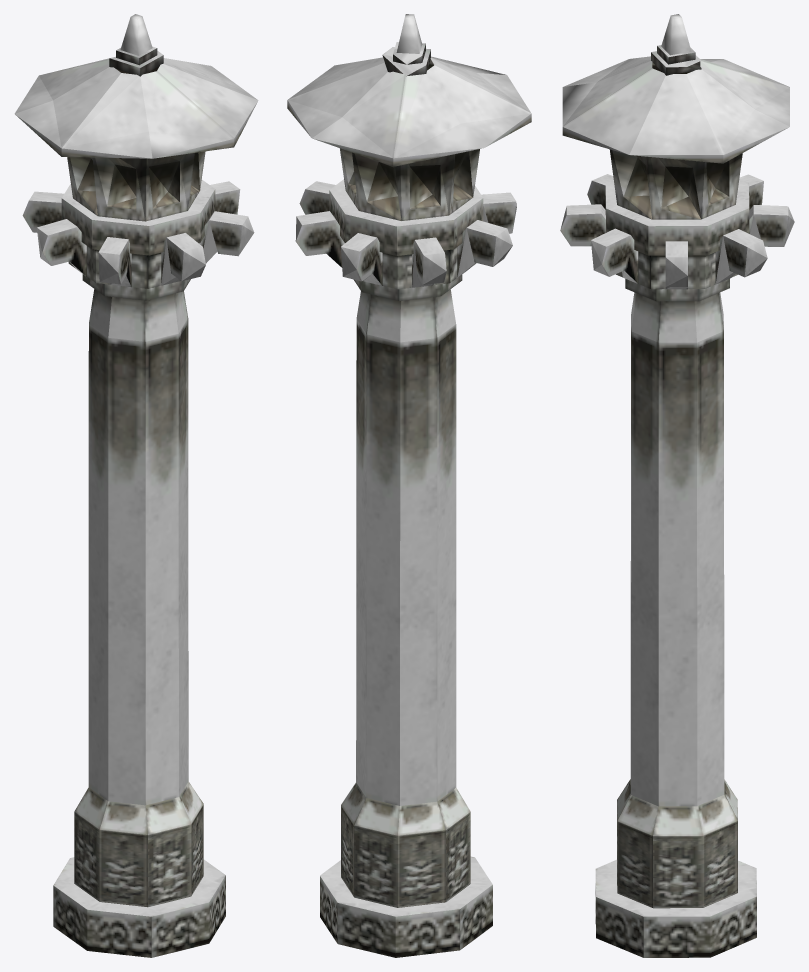
File: nsm-018-stonelight_lod_01.fbx
The picture shows the model from 3 angles, left to right: view 1: azimuth 30°, elevation 25°; view 2: azimuth 150°, elevation 25°; view 3: azimuth 270°, elevation 25°; orthographic projection.
Parts seen in each view (by area): view 1: Cone20; view 2: Cone20; view 3: Cone20.
Part boxes in pixels (x1,y1,x2,y2): Cone20: [14, 14, 258, 957]; Cone20: [287, 14, 531, 957]; Cone20: [560, 14, 794, 957].
Size of the model in its own units: 2.05 by 8.75 by 2.05.
